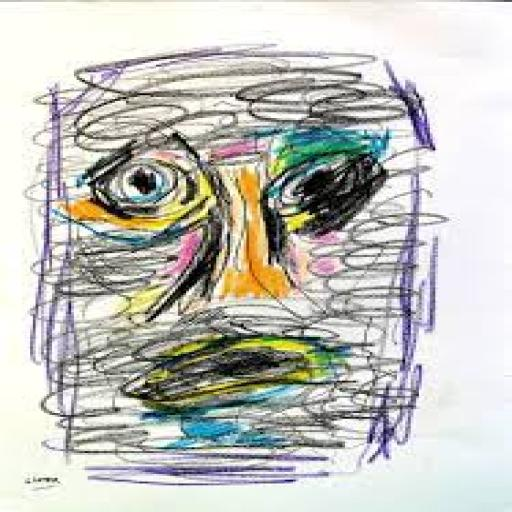person: (35, 41, 445, 499)
